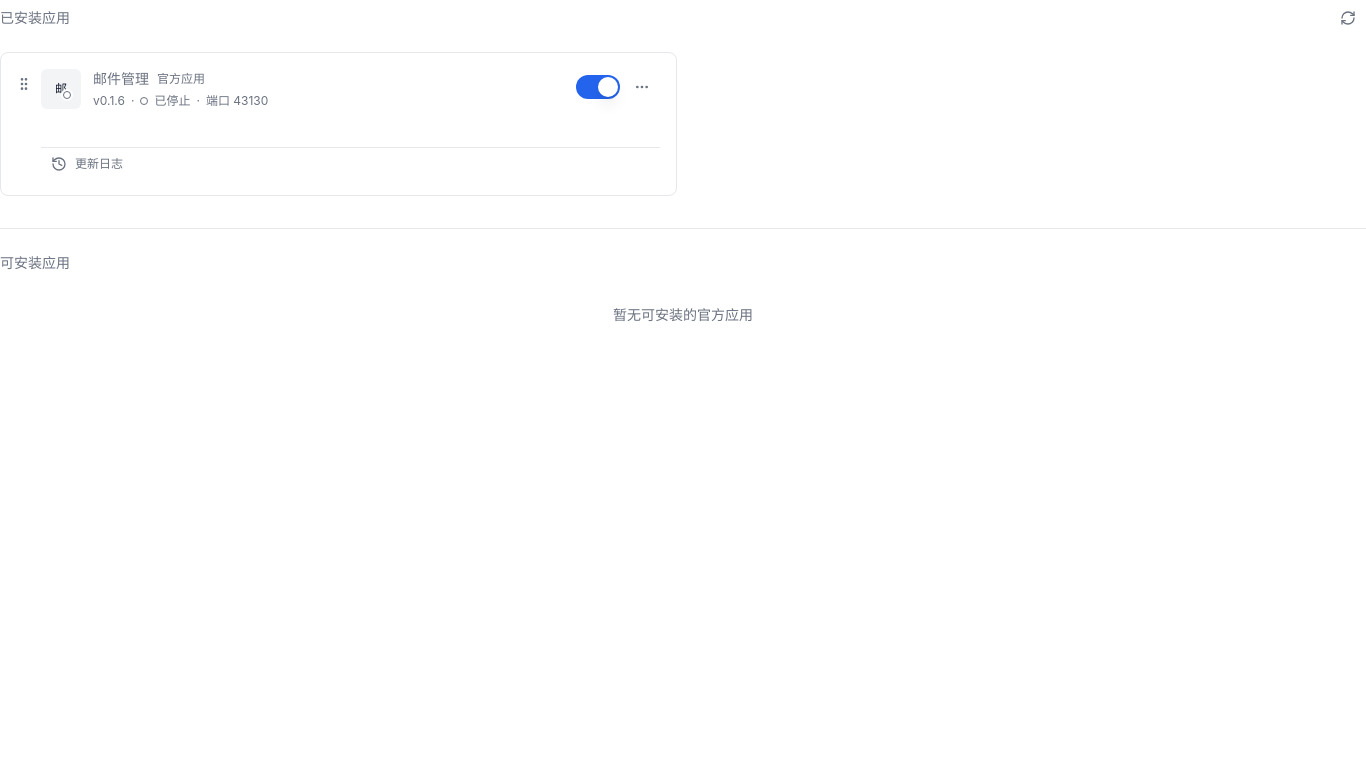
Test case: AppManagementPage › 更新日志按发布时间倒序显示最新版本
Click the button "更新日志".
click(87, 164)  # box [45, 150, 129, 178]
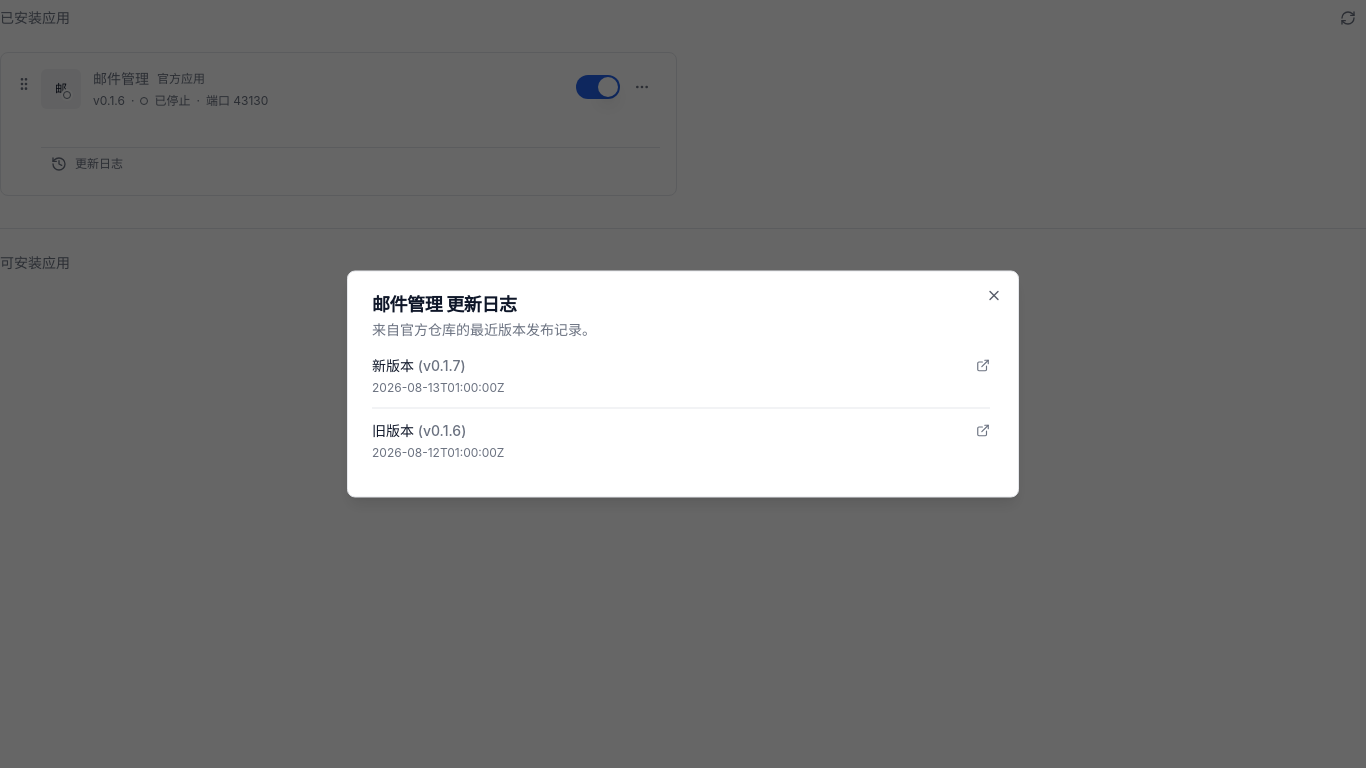
Expected: the element showing "新版本 (v0.1.7) 2026-08-13T01:00:00Z" is shown, [372, 356, 990, 408]
Expected: the element showing "旧版本 (v0.1.6) 2026-08-12T01:00:00Z" is shown, [372, 420, 990, 472]
